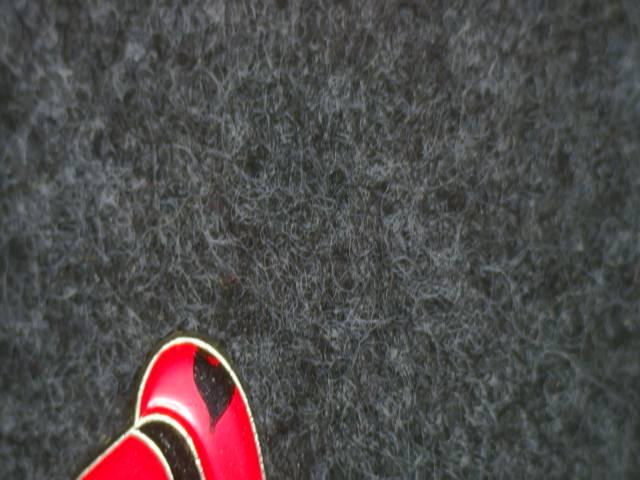Red-Hat: (52, 301, 280, 480)
Scratch: (179, 330, 253, 450)
